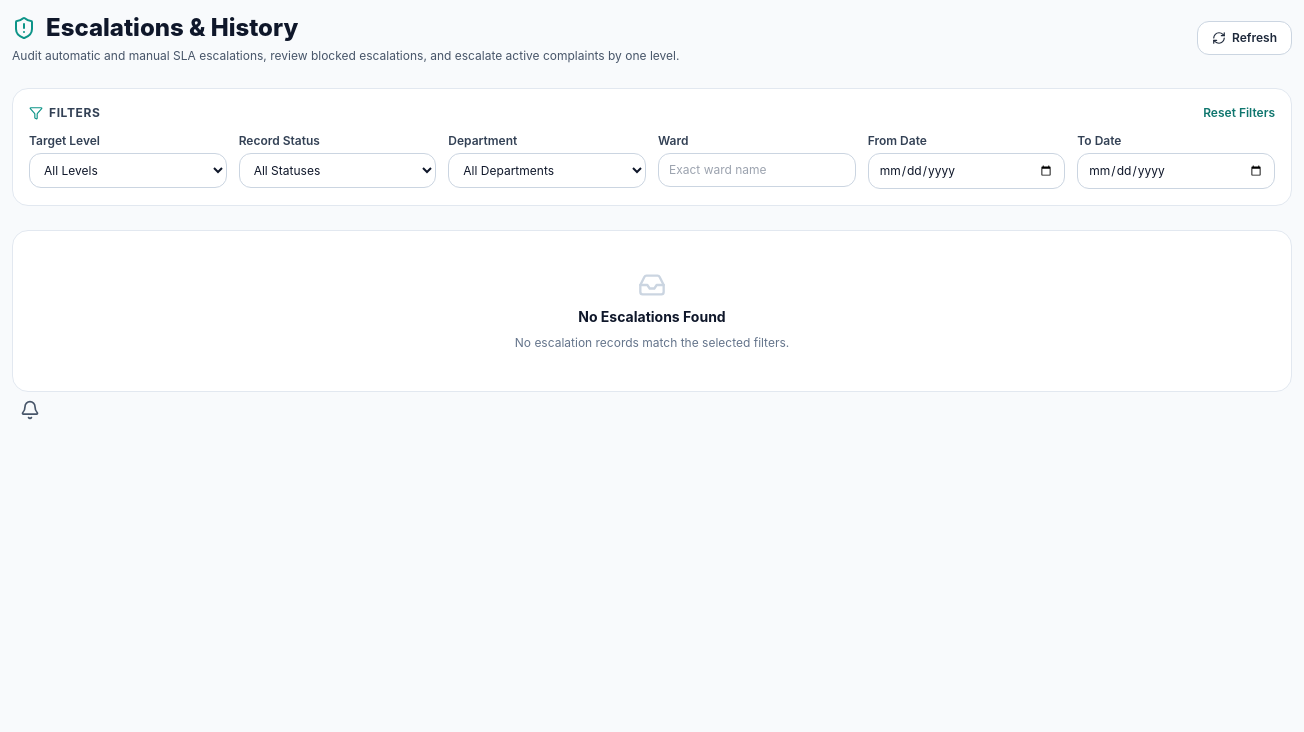
Test: Phase 7.3 Unit & Mocked Integration Tests › renders empty states and notification error retry state cleanly
Expected: the heading "No Escalations Found" is shown, left=578, top=308, right=726, bottom=325
Step 1. Click the button named "Notifications" → coordinates (30, 410), box left=12, top=392, right=48, bottom=428
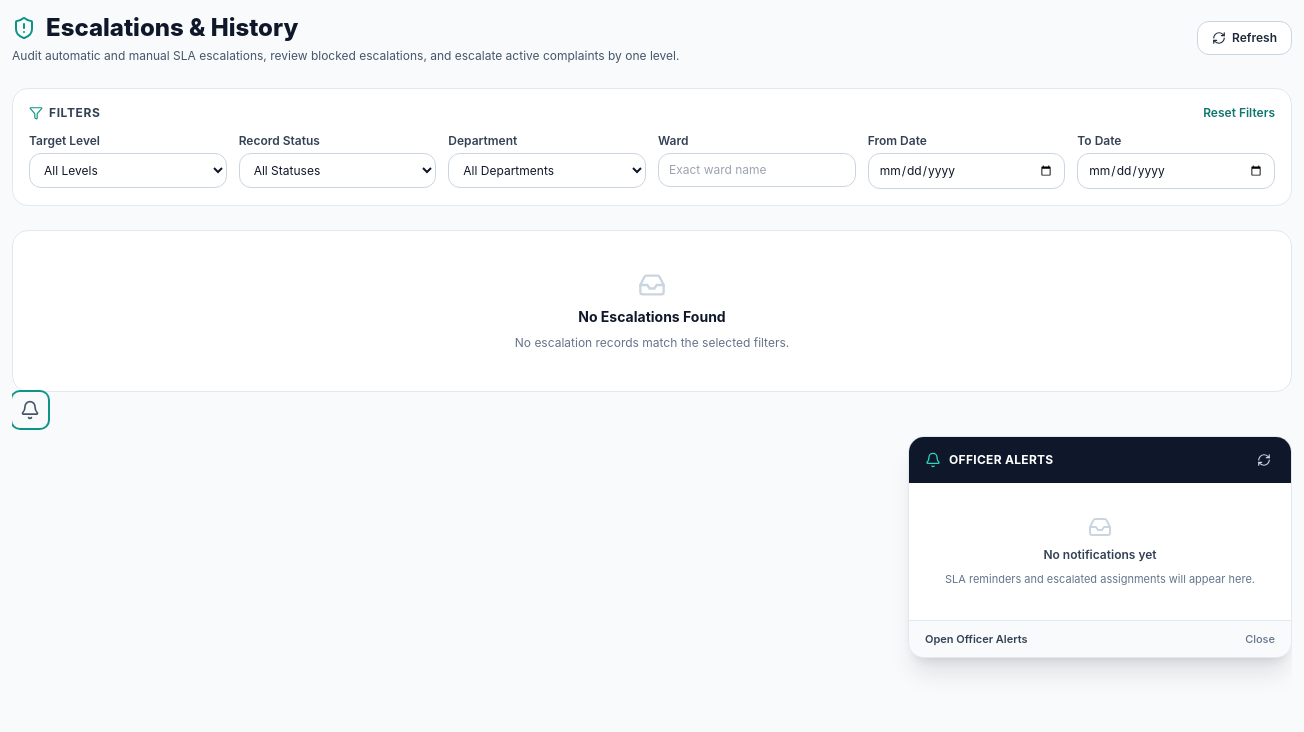
Now the text "No notifications yet" is shown, box left=1043, top=547, right=1157, bottom=562
